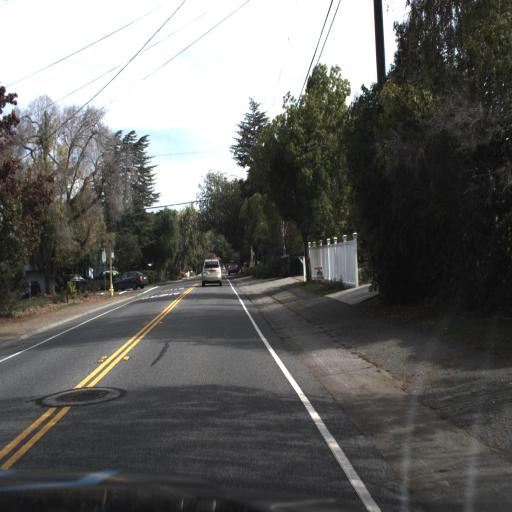car: (197, 253, 226, 288), (114, 270, 148, 294), (228, 259, 239, 276)
